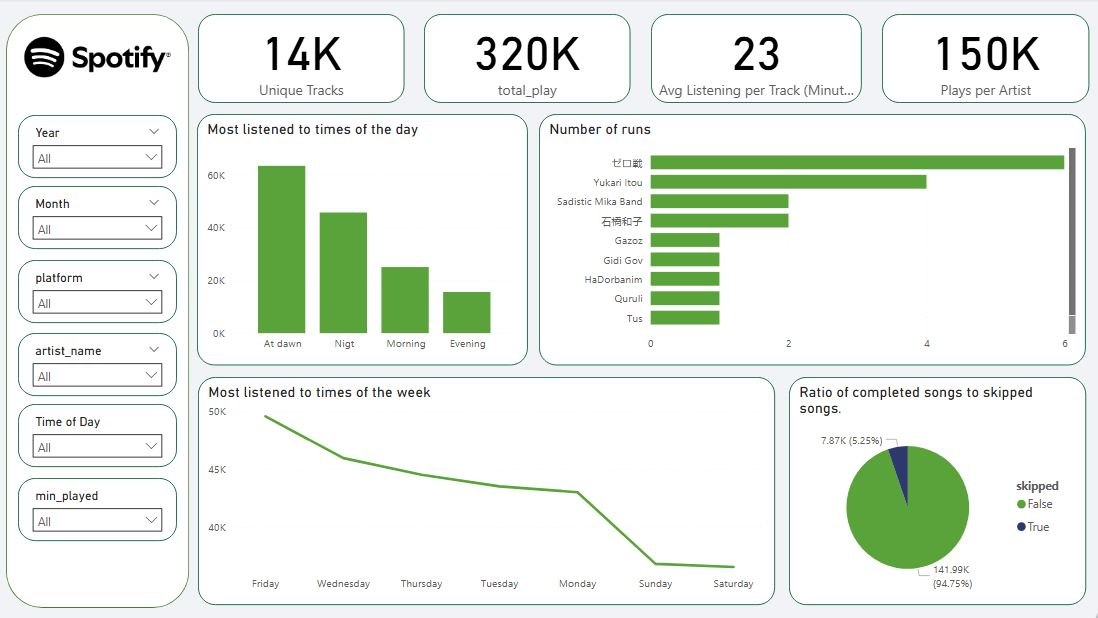

Layout of this report page (visuals, bound fields, positions):
{"tool":"powerbi","page":{"name":"TH","canvas":[1280,720],"ordinal":2},"visuals":[{"type":"shape","box":[9,18,212,687.6],"z":0},{"type":"lineChart","title":"Most listened to times of the week","fields":{"Category":["spotify_history.Day of Week"],"Y":["Sum(spotify_history.min_played)"]},"box":[232,438.7,668,264],"z":1000},{"type":"columnChart","title":"Most listened to times of the day","fields":{"Category":["spotify_history.Time of Day"],"Y":["CountNonNull(spotify_history.track_name)"]},"box":[230.7,134.7,382.7,290.7],"z":2000},{"type":"card","fields":{"Values":["spotify_history.Avg Listening per Track (Minutes)"]},"box":[755.7,18,244.2,102.8],"z":3000},{"type":"card","fields":{"Values":["spotify_history.Plays per Artist"]},"box":[1023,18,240.3,102.8],"z":4000},{"type":"card","fields":{"Values":["spotify_history.total_play"]},"box":[493.5,18,239,102.8],"z":5000},{"type":"card","fields":{"Values":["spotify_history.Unique Tracks"]},"box":[231.3,18,239,102.8],"z":6000},{"type":"slicer","fields":{"Values":["spotify_history.data_start.Variation.Date Hierarchy.Year"]},"box":[23.1,134.9,183.8,73.3],"z":7000},{"type":"slicer","fields":{"Values":["spotify_history.data_start.Variation.Date Hierarchy.Month"]},"box":[23.1,217.2,183.8,73.3],"z":8000},{"type":"slicer","fields":{"Values":["spotify_history.platform"]},"box":[23.1,303.3,183.8,73.3],"z":9000},{"type":"slicer","fields":{"Values":["spotify_history.artist_name"]},"box":[23.1,388.1,183.8,73.3],"z":10000},{"type":"slicer","fields":{"Values":["spotify_history.Time of Day"]},"box":[23.1,470.4,183.8,73.3],"z":11000},{"type":"slicer","fields":{"Values":["spotify_history.min_played"]},"box":[22.6,555.4,183.8,73.3],"z":12000},{"type":"image","box":[22.6,18.6,183.8,99.9],"z":13000},{"type":"barChart","title":"Number of runs","fields":{"Category":["spotify_history.artist_name"],"Y":["CountNonNull(spotify_history.track_name)"]},"box":[626.7,134.7,633.3,290.7],"z":14000},{"type":"pieChart","title":"Ratio of completed songs to skipped songs.","fields":{"Category":["spotify_history.skipped"],"Y":["CountNonNull(spotify_history.track_name)"]},"box":[916,438.7,344,264],"z":15000}]}

Visuals, with their boxes in screenshot pixels (x1, y1, x2, y2), scaled from the page's 1280x720 canvas onto the 1098x618 screenshot:
shape: crop(8, 15, 190, 606)
"Most listened to times of the week" lineChart: crop(199, 377, 772, 603)
"Most listened to times of the day" columnChart: crop(198, 116, 526, 365)
card - spotify_history.Avg Listening per Track (Minutes): crop(648, 15, 858, 104)
card - spotify_history.Plays per Artist: crop(878, 15, 1084, 104)
card - spotify_history.total_play: crop(423, 15, 628, 104)
card - spotify_history.Unique Tracks: crop(198, 15, 403, 104)
slicer - spotify_history.data_start.Variation.Date Hierarchy.Year: crop(20, 116, 177, 179)
slicer - spotify_history.data_start.Variation.Date Hierarchy.Month: crop(20, 186, 177, 249)
slicer - spotify_history.platform: crop(20, 260, 177, 323)
slicer - spotify_history.artist_name: crop(20, 333, 177, 396)
slicer - spotify_history.Time of Day: crop(20, 404, 177, 467)
slicer - spotify_history.min_played: crop(19, 477, 177, 540)
image: crop(19, 16, 177, 102)
"Number of runs" barChart: crop(538, 116, 1081, 365)
"Ratio of completed songs to skipped songs." pieChart: crop(786, 377, 1081, 603)
